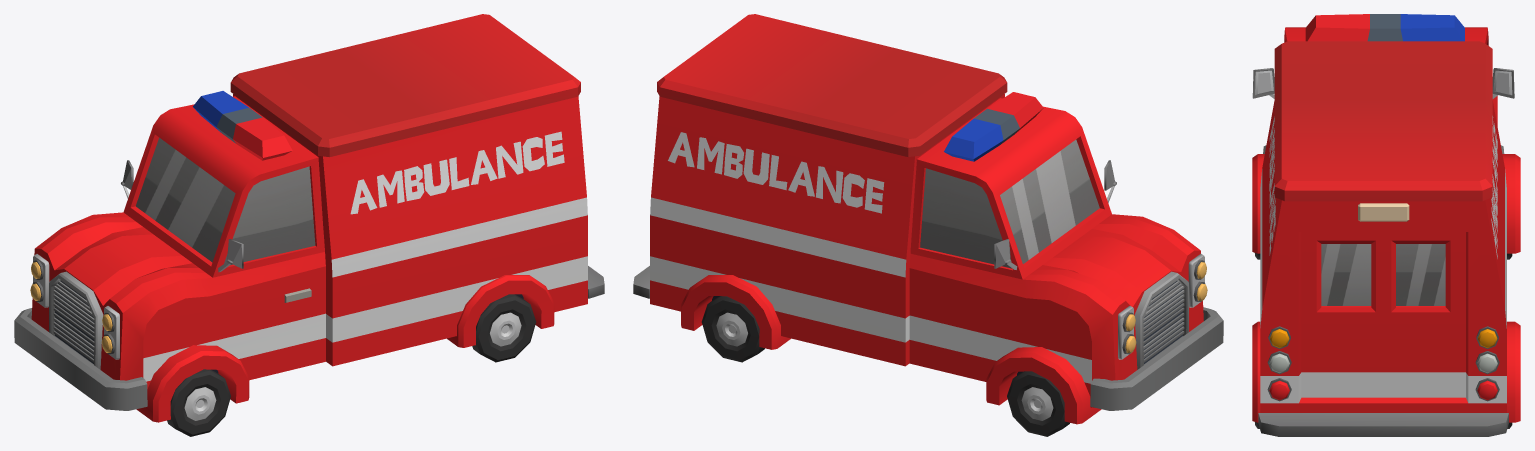
The model's file is Ambulance_2_A.gltf.
3 renders of one model, left to right at view 1: azimuth 30°, elevation 25°; view 2: azimuth 150°, elevation 25°; view 3: azimuth 270°, elevation 25°, orthographic. The views are drawn at different scales.
Parts seen in each view (by area): view 1: Ambulance_2_A, RL, FL; view 2: Ambulance_2_A, RR, FR; view 3: Ambulance_2_A.
Part boxes in pixels (x1=…): Ambulance_2_A: x1=14, y1=14, x2=604, y2=422; RL: x1=472, y1=294, x2=536, y2=362; FL: x1=167, y1=369, x2=230, y2=436; Ambulance_2_A: x1=633, y1=14, x2=1223, y2=424; RR: x1=701, y1=296, x2=764, y2=362; FR: x1=1007, y1=371, x2=1069, y2=436; Ambulance_2_A: x1=1252, y1=14, x2=1520, y2=436.
Size of the model in its own units: 4.08 by 1.99 by 1.68.
4 materials, 4 textured.
